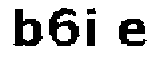6: (44, 5, 82, 48)
b: (11, 7, 42, 51)
e: (116, 18, 150, 49)
i: (85, 9, 107, 50)
